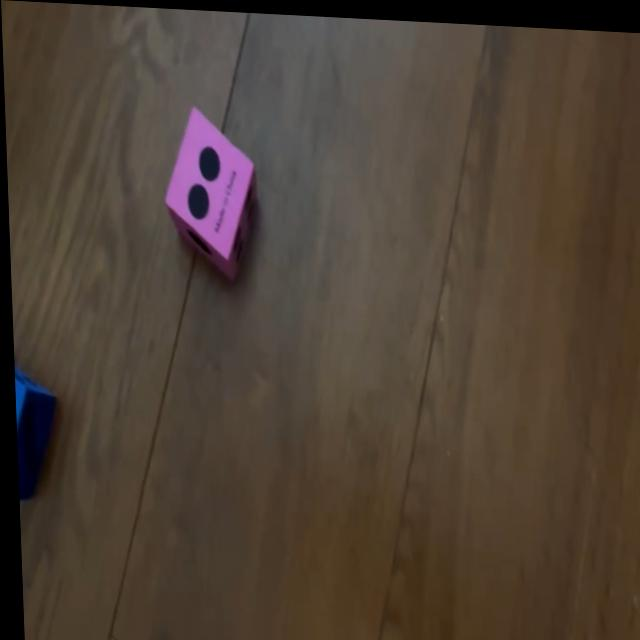cube: (11, 362, 55, 504)
